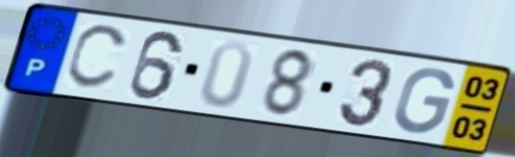0: (196, 38, 257, 111)
3: (334, 57, 395, 130)
6: (126, 29, 187, 103)
8: (260, 46, 317, 119)
C: (62, 23, 132, 93)
G: (391, 65, 457, 136)
